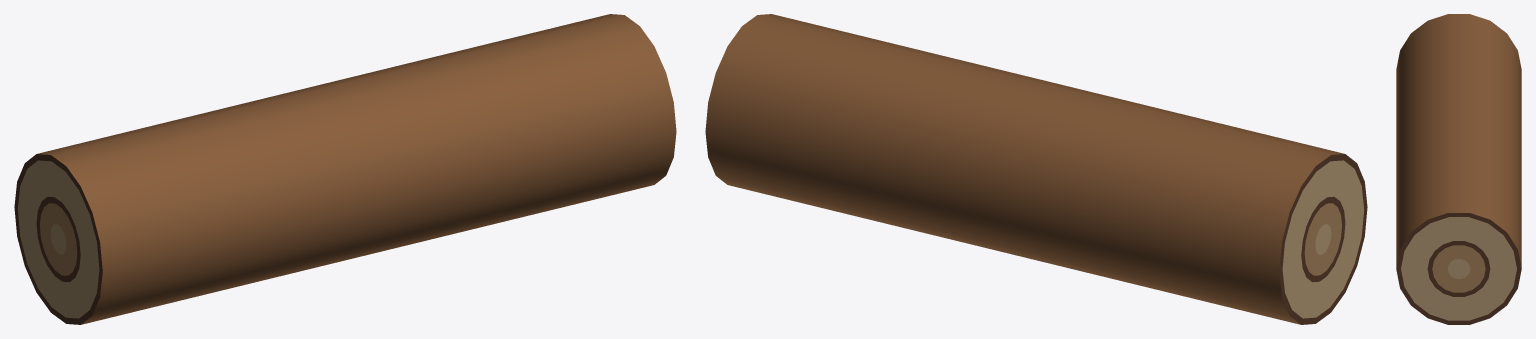
Rendered from log.glb.
3 views of the same model, side by side, from view 1: azimuth 30°, elevation 25°; view 2: azimuth 150°, elevation 25°; view 3: azimuth 270°, elevation 25° (orthographic). The views are drawn at different scales.
Parts seen in each view (by area): view 1: log; view 2: log; view 3: log.
Part boxes in pixels (x1,y1,x2,y2): log: (14,14,676,324); log: (705,14,1367,324); log: (1396,14,1521,324).
Bounding box in the file's own units: 1.8 × 0.4727 × 0.48.
